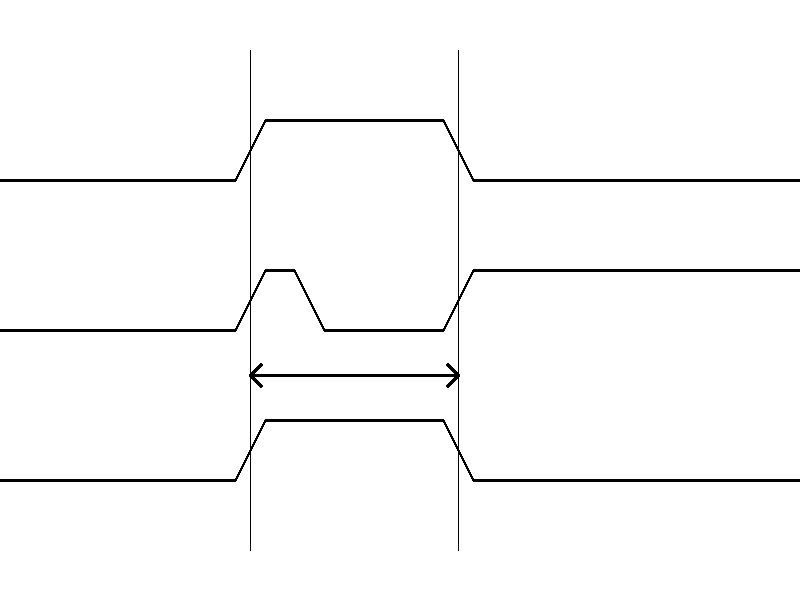double_arrow: (250, 360, 458, 390)
